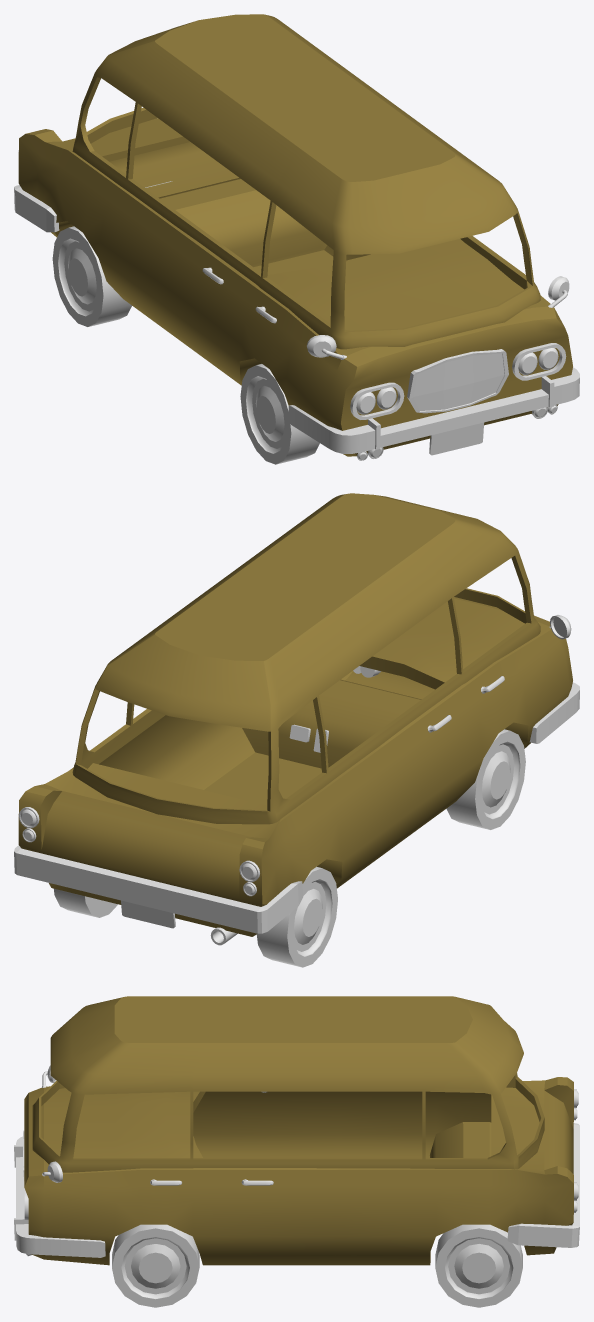
File: Van.fbx
3 views of the same model, one above another, from view 1: azimuth 30°, elevation 25°; view 2: azimuth 150°, elevation 25°; view 3: azimuth 270°, elevation 25° (orthographic). The views are drawn at different scales.
Visible parts, largest first — view 1: Cabin_Exterior, Cabin_Exterior.001, Bumper_Rear, Wheels_Front, Lights_Front_Turn, Bumper_Rear.001; view 2: Cabin_Exterior, Cabin_Exterior.001, Wheels_Front, Bumper_Rear, Lights_Front_Turn, Plate_Rear; view 3: Cabin_Exterior, Cabin_Exterior.001, Wheels_Front, Bumper_Rear, Bumper_Rear.001, Lights_Front_Turn.
Part boxes in pixels (x1,y1,x2,y2): Cabin_Exterior: (18,118,572,456); Cabin_Exterior.001: (72,14,540,349); Bumper_Rear: (14,185,579,455); Wheels_Front: (52,226,319,464); Lights_Front_Turn: (18,150,566,460); Bumper_Rear.001: (307,276,569,359); Cabin_Exterior: (18,597,572,936); Cabin_Exterior.001: (72,493,540,824); Wheels_Front: (54,729,525,967); Bumper_Rear: (14,676,579,945); Lights_Front_Turn: (18,666,380,896); Plate_Rear: (121,900,175,928); Cabin_Exterior: (24,1077,573,1265); Cabin_Exterior.001: (32,996,544,1172); Wheels_Front: (112,1224,522,1307); Bumper_Rear: (14,1091,579,1257); Bumper_Rear.001: (42,1065,62,1182); Lights_Front_Turn: (24,1089,578,1256).
Bounding box in the file's own units: 213 × 216 × 464.
